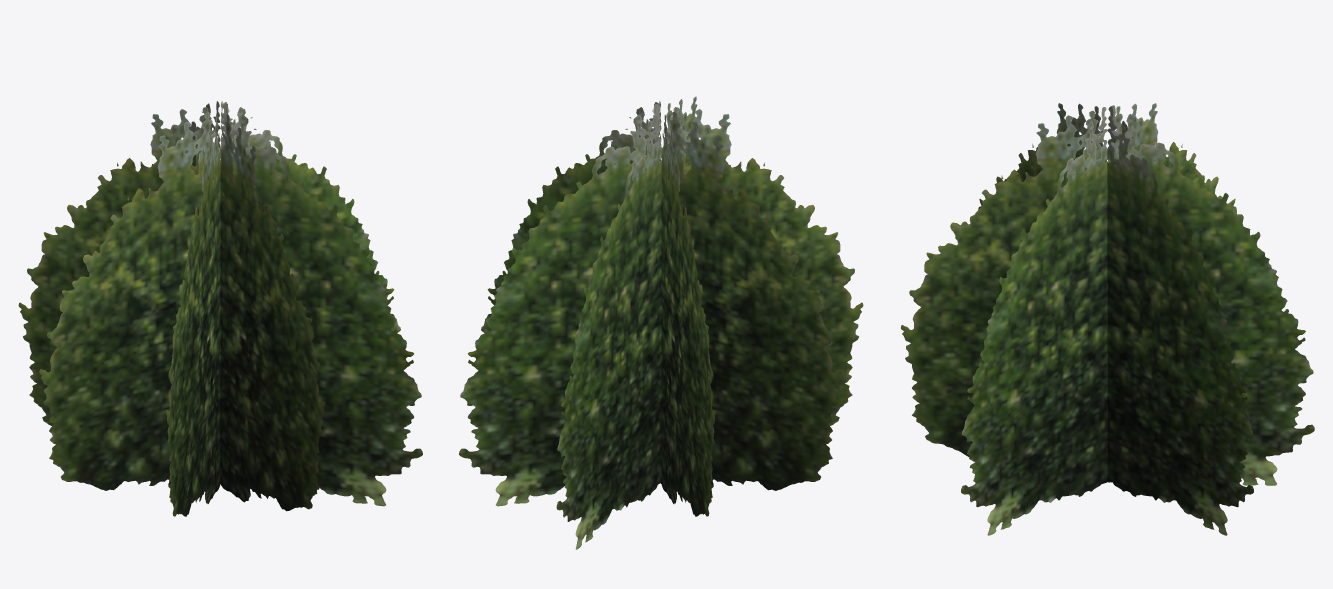
File: Bush1.fbx
3 renders of one model, left to right at view 1: azimuth 30°, elevation 25°; view 2: azimuth 150°, elevation 25°; view 3: azimuth 270°, elevation 25°, orthographic.
Visible parts, largest first — view 1: Bush; view 2: Bush; view 3: Bush.
Boxes of the visible parts, bbox=[...] form: Bush: bbox=[18, 101, 422, 516]; Bush: bbox=[459, 96, 863, 549]; Bush: bbox=[901, 103, 1314, 535].
Bounding box in the file's own units: 500 × 500 × 500.
Materials: 1 (1 with a texture image).
